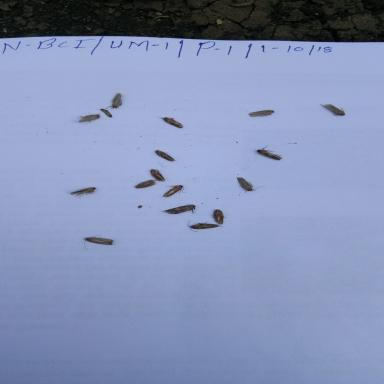pbw: (129, 175, 167, 191), (147, 165, 179, 182), (236, 176, 266, 194), (82, 234, 114, 250), (160, 203, 200, 215), (255, 145, 284, 161), (159, 182, 187, 198), (184, 220, 220, 232), (155, 115, 184, 129), (318, 103, 348, 116), (104, 92, 124, 110), (68, 186, 98, 198), (210, 208, 228, 226), (75, 112, 102, 124), (154, 148, 175, 162), (247, 109, 276, 118), (98, 108, 114, 118)
